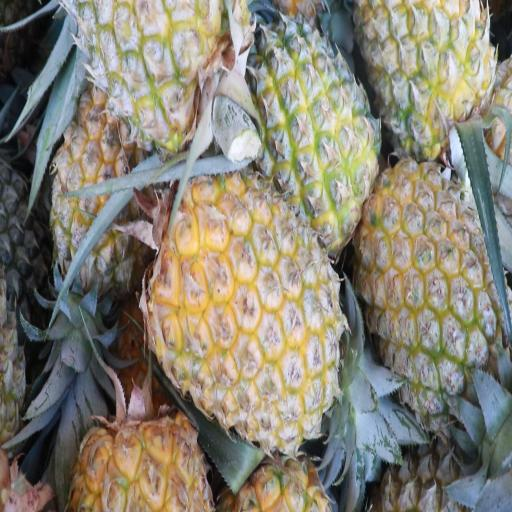------------------------------: (52, 89, 148, 286)
Pineapple - v8 v1: (161, 172, 342, 430), (365, 160, 492, 392), (253, 24, 375, 241), (362, 0, 493, 149)
